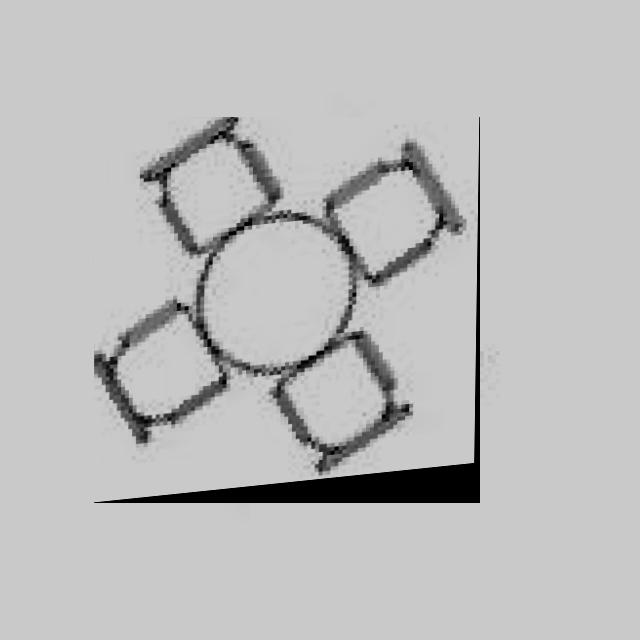table: (94, 117, 480, 503)
